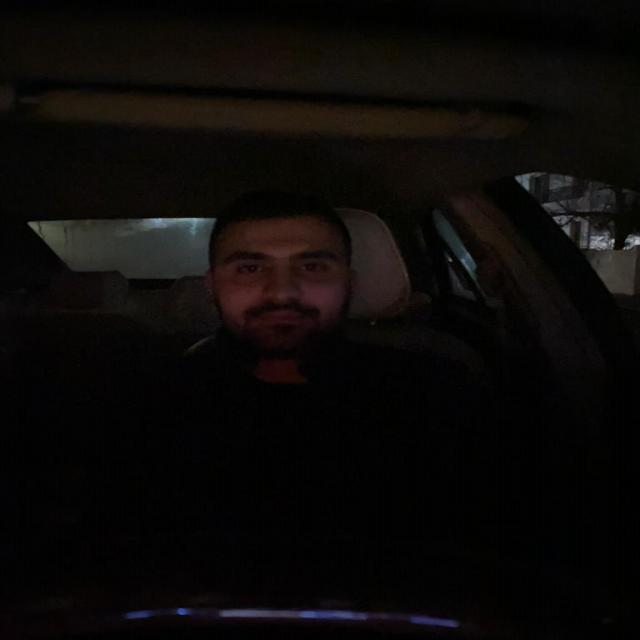person: (205, 193, 362, 360)
